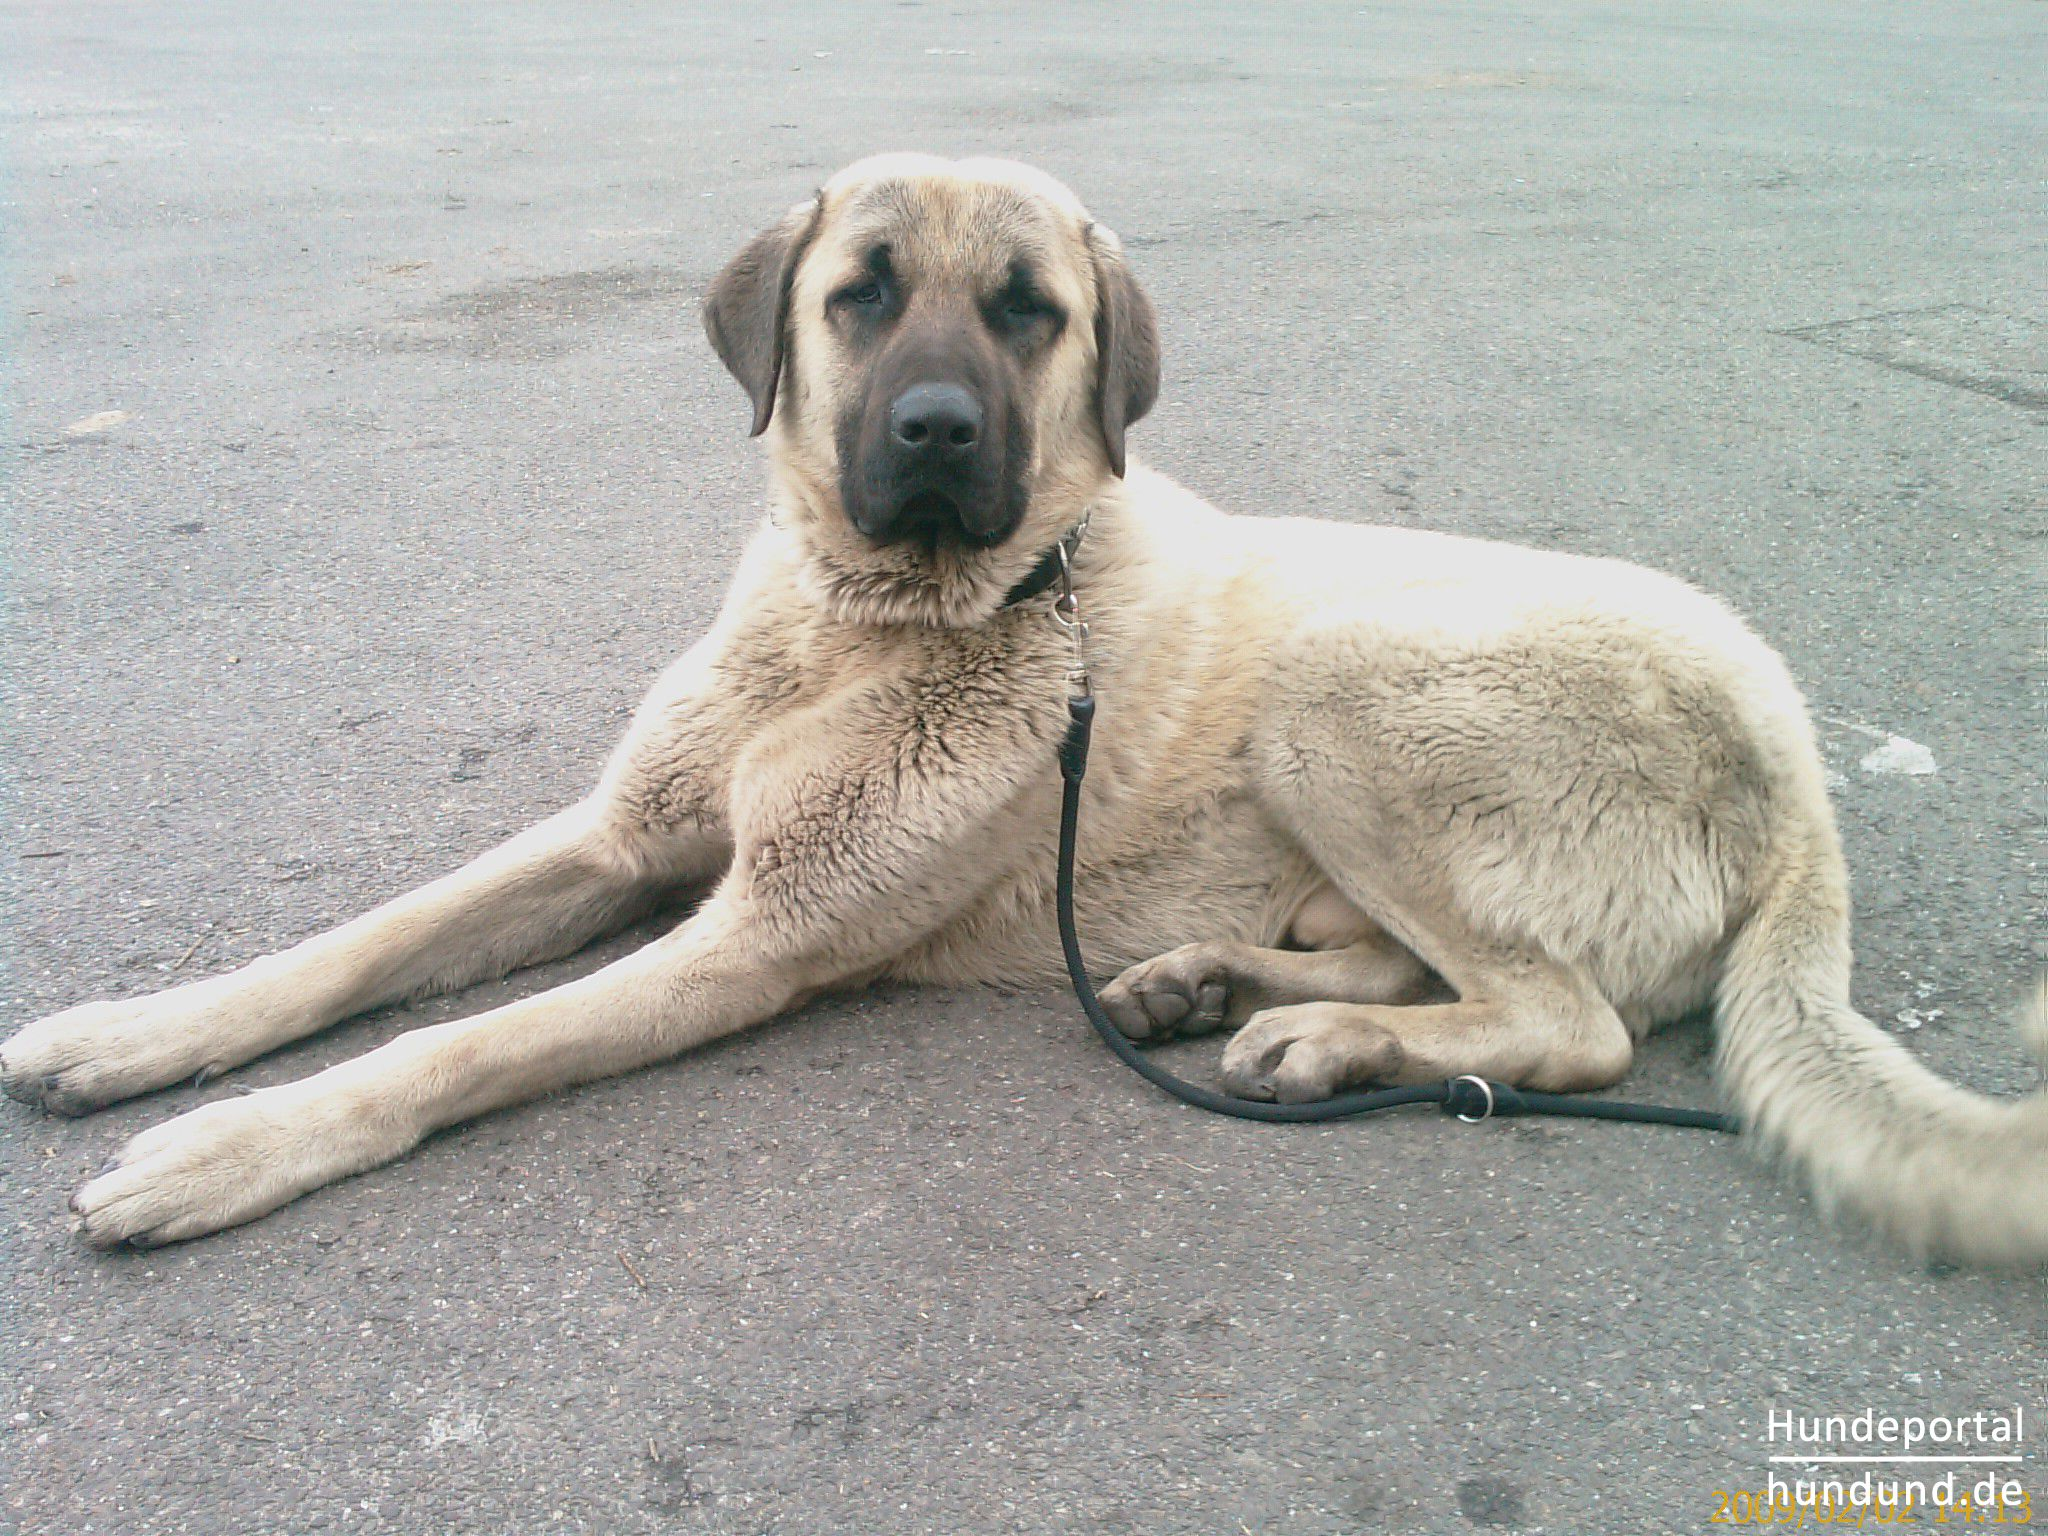kangal: (0, 150, 2048, 1265)
